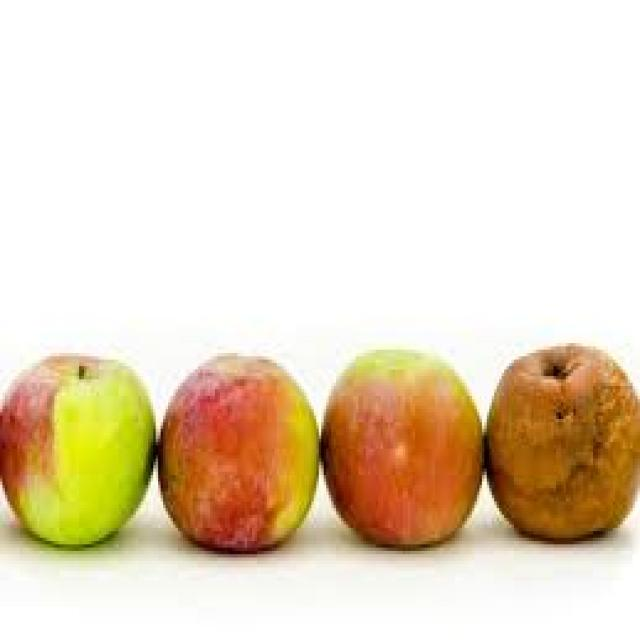Green Juicy Apple: (0, 354, 155, 548)
Red Apple: (323, 354, 483, 550), (162, 362, 318, 551)
Rotten Apple: (489, 346, 635, 544)
